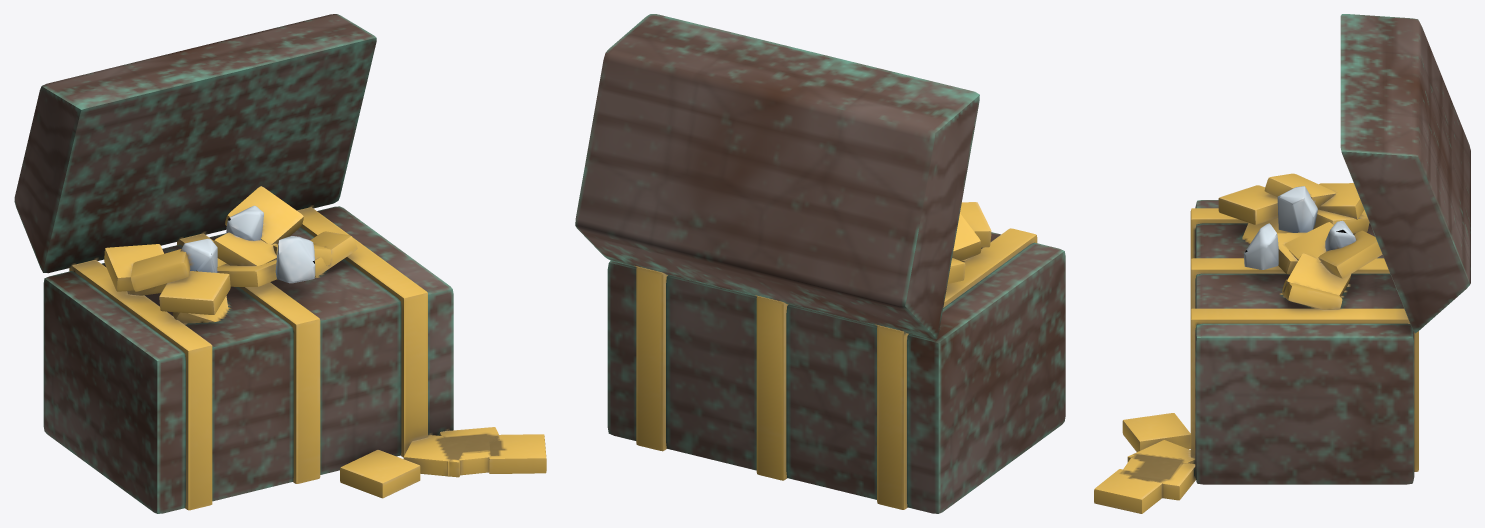
Rendered from Abysses_Coffre.fbx.
3 renders of one model, left to right at view 1: azimuth 30°, elevation 25°; view 2: azimuth 150°, elevation 25°; view 3: azimuth 270°, elevation 25°, orthographic. The views are drawn at different scales.
Parts seen in each view (by area): view 1: Abysses_Coffre; view 2: Abysses_Coffre; view 3: Abysses_Coffre.
Part boxes in pixels (box(x1,y1,x2,y2)): Abysses_Coffre: box(14, 14, 546, 513); Abysses_Coffre: box(575, 14, 1065, 513); Abysses_Coffre: box(1094, 14, 1470, 513).
Size of the model in its own units: 433 by 405 by 413.
1 material, 1 textured.
